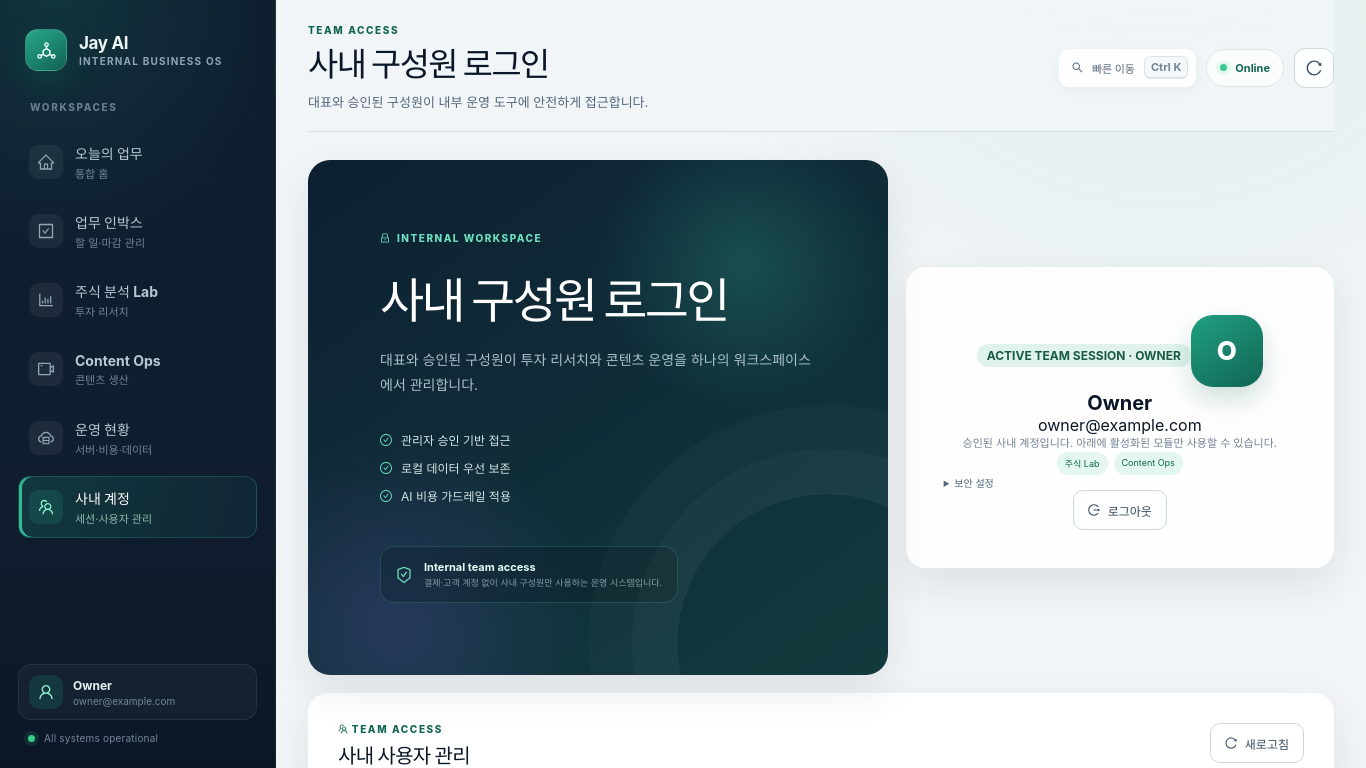
Test: logs out an active session without rendering the click event
The width and height of the screenshot is (1366, 768).
Expected: the text "owner@example.com" below "세션·사용자 관리" is shown, x1=73 y1=694 x2=175 y2=706
Step 1. Click the button "로그아웃" → (1120, 510), box x1=1073 y1=490 x2=1167 y2=530
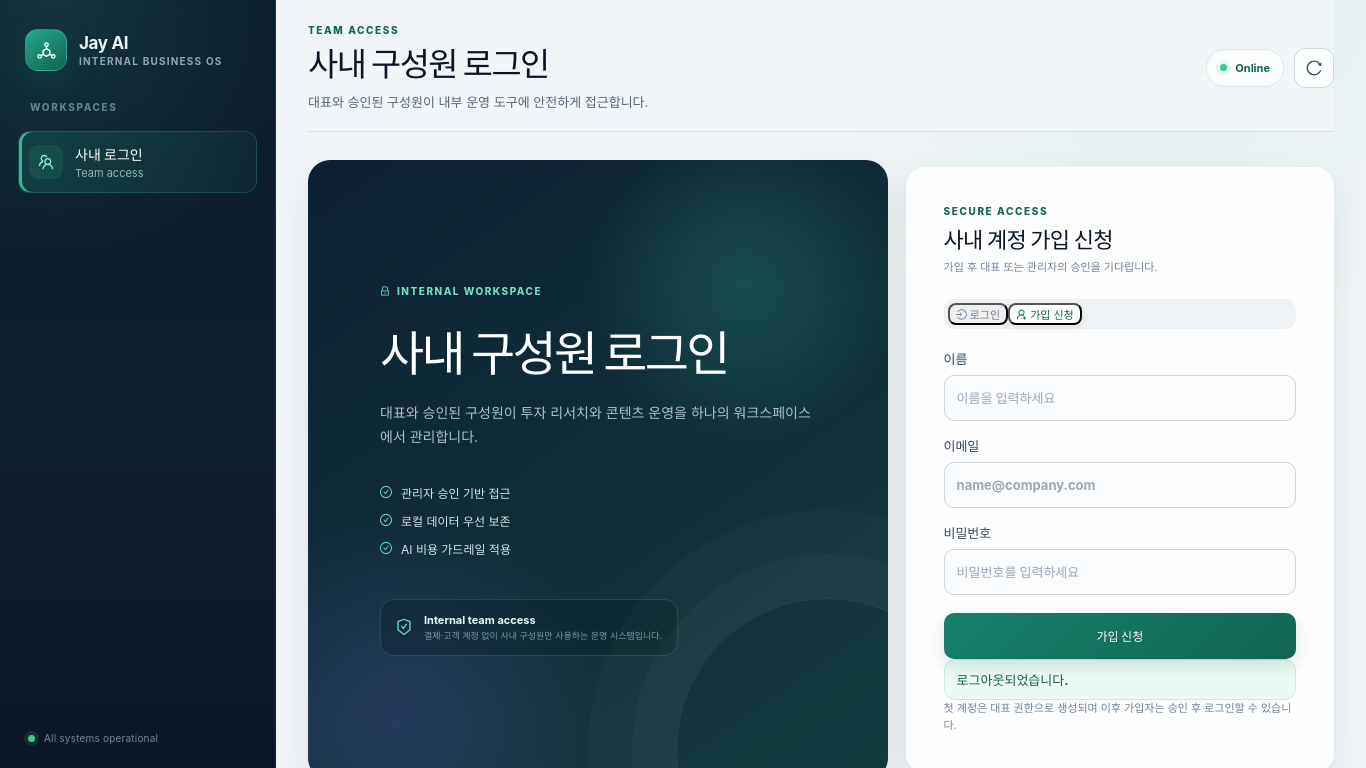
Now the heading "사내 계정 가입 신청" is shown, box x1=944 y1=227 x2=1113 y2=253
Now the message reads "로그아웃되었습니다.", box x1=957 y1=672 x2=1069 y2=688
